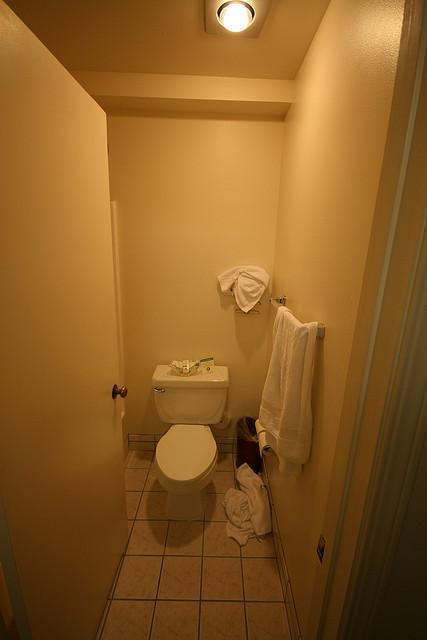Bote de Basura: (231, 415, 264, 480)
Sanitario: (153, 358, 226, 516)
